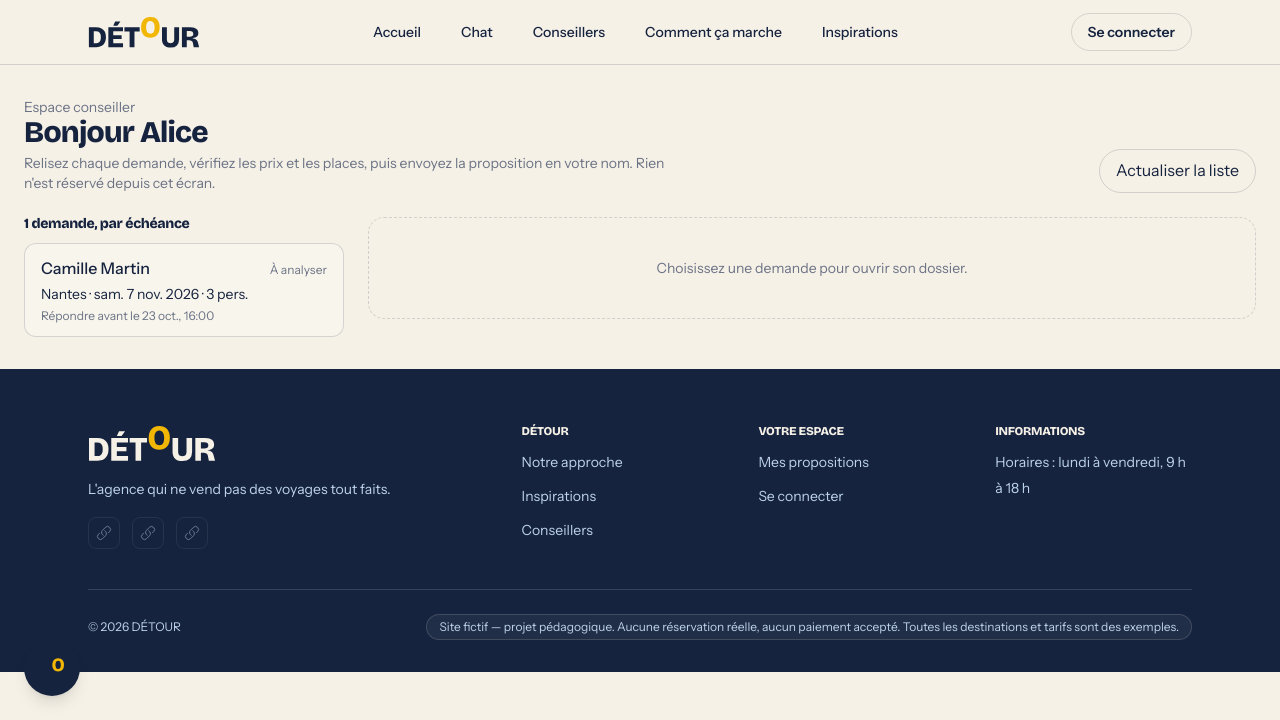
Test: EspaceConseiller › requires a reason before refusing a proposal
Click the button "Camille Martin".
click(184, 290)  # box [24,243,344,337]
(page scrolled)
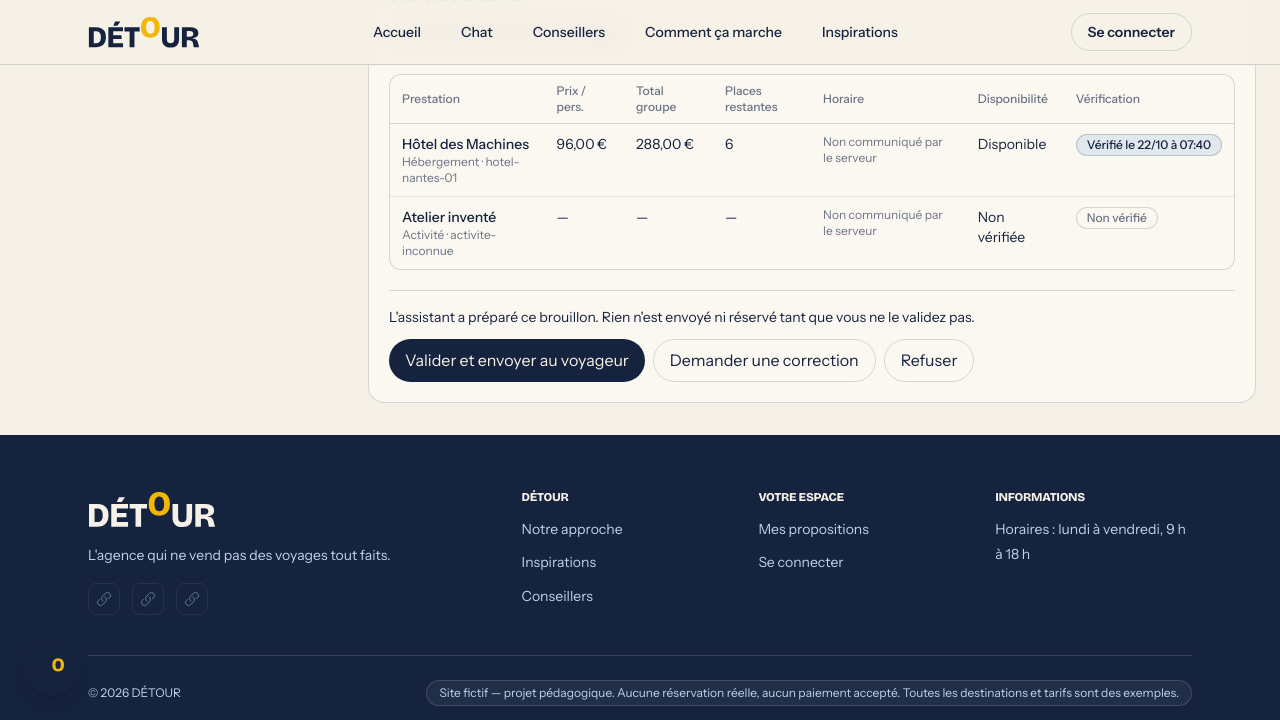
Click the button "Refuser".
click(929, 360)  # box [884,339,974,382]
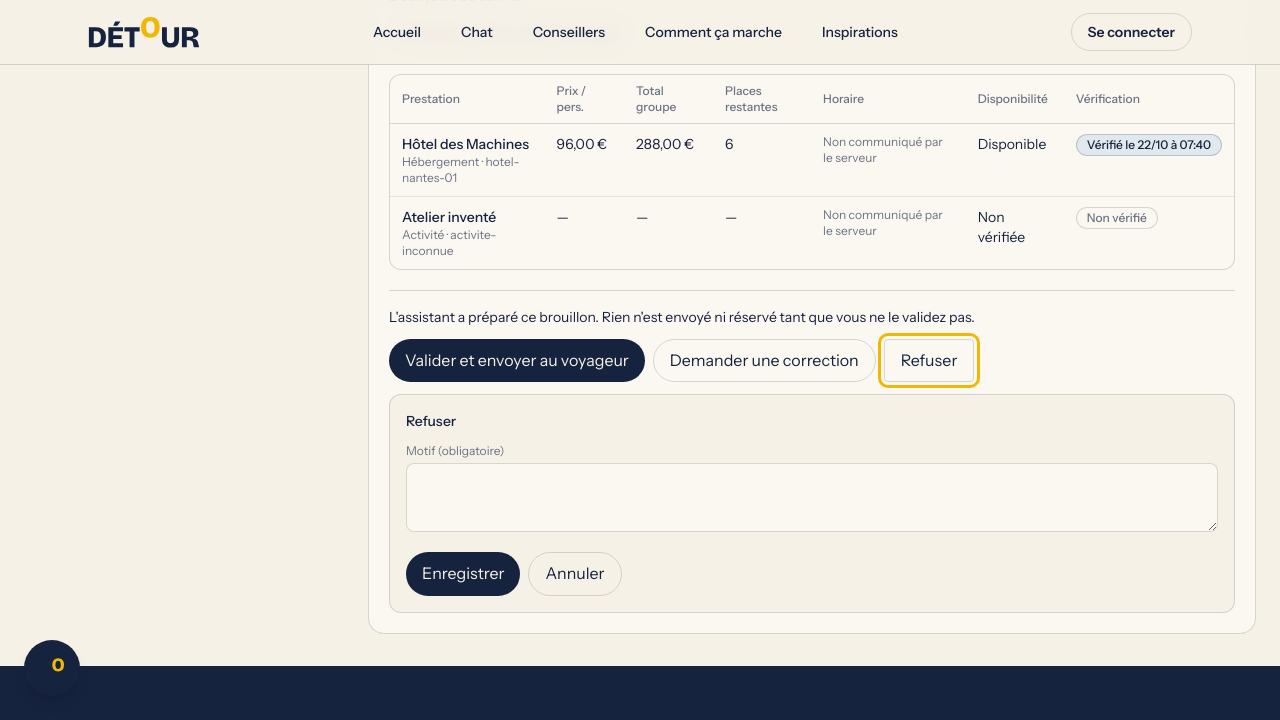
Click the button "Enregistrer".
click(463, 574)  # box [406,552,520,596]
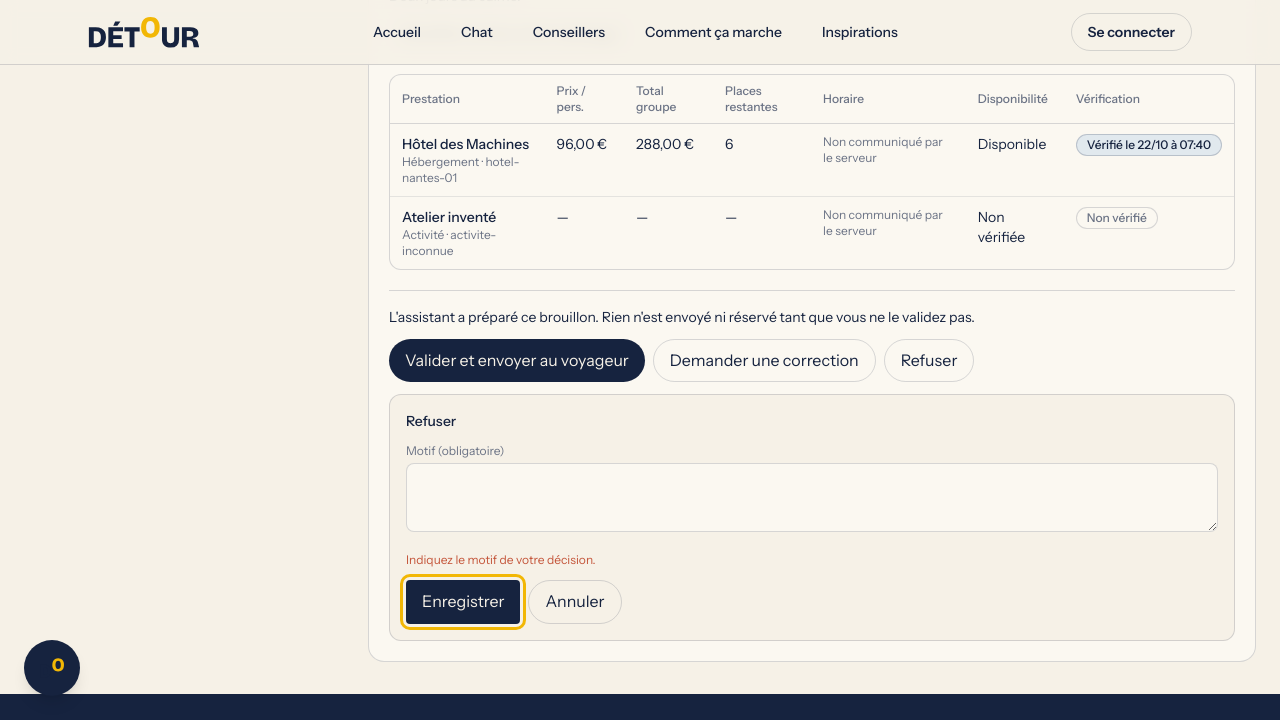
Expected: the message reads "Indiquez le motif de votre décision.", [406,552,596,567]
